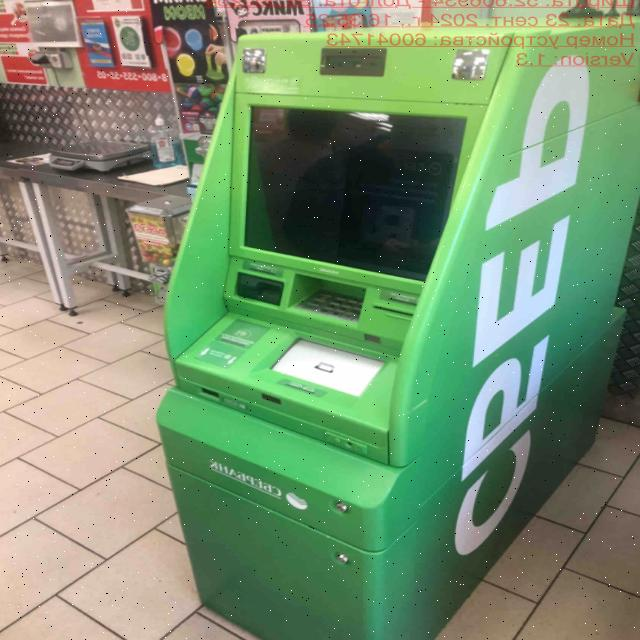bank: (153, 11, 640, 640)
